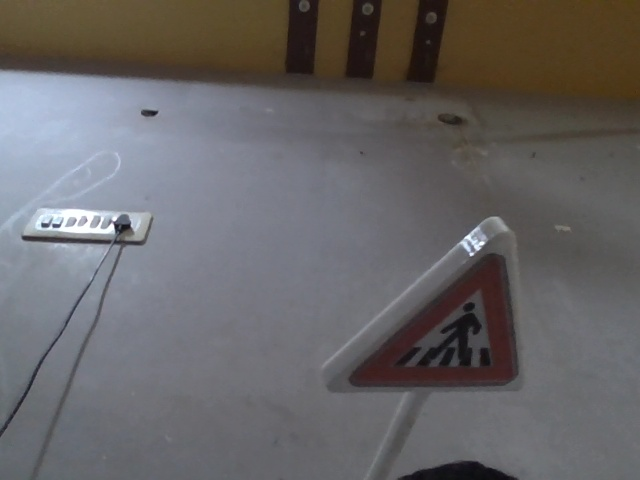crossing: (307, 208, 555, 407)
